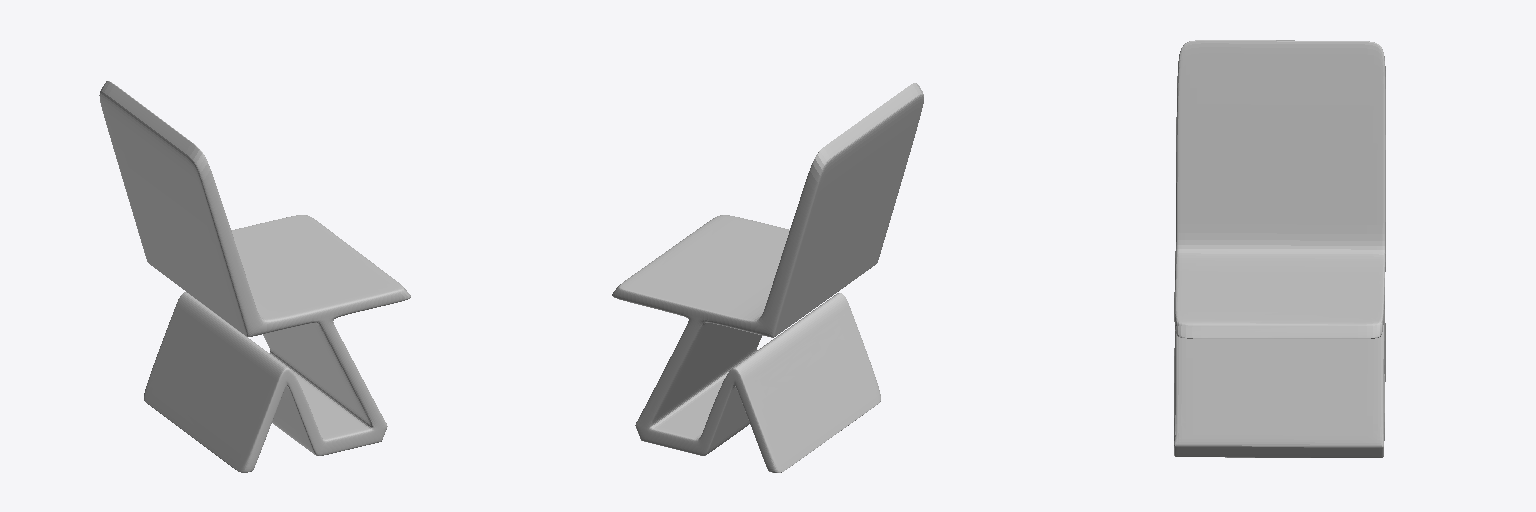
The model's file is Stul.obj.
The picture shows the model from 3 angles: view 1: azimuth 30°, elevation 25°; view 2: azimuth 150°, elevation 25°; view 3: azimuth 270°, elevation 25°; orthographic projection.
Parts seen in each view (by area): view 1: Plane.002; view 2: Plane.002; view 3: Plane.002.
Part boxes in pixels (bbox=[...]): Plane.002: bbox=[99, 81, 410, 472]; Plane.002: bbox=[612, 83, 923, 472]; Plane.002: bbox=[1174, 40, 1385, 457].
Size of the model in its own units: 0.5247 by 0.7642 by 0.4428.